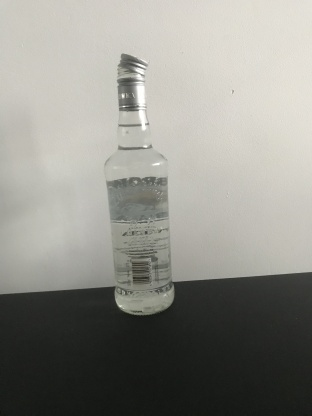nakretka: (115, 50, 149, 111)
